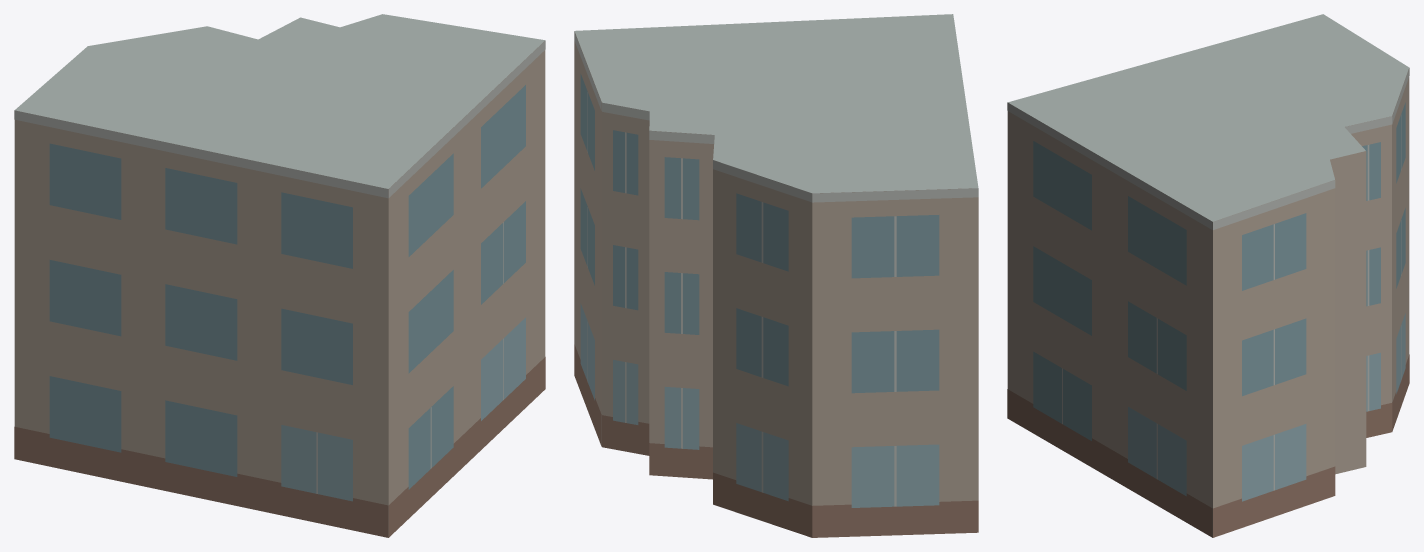
Rendered from survey-upis-32490858.glb.
3 renders of one model, left to right at view 1: azimuth 30°, elevation 25°; view 2: azimuth 150°, elevation 25°; view 3: azimuth 270°, elevation 25°, orthographic. The views are drawn at different scales.
Parts seen in each view (by area): view 1: survey-upis-32490858.tmp; view 2: survey-upis-32490858.tmp; view 3: survey-upis-32490858.tmp.
Part boxes in pixels (x1,y1,x2,y2): survey-upis-32490858.tmp: [14, 14, 545, 537]; survey-upis-32490858.tmp: [574, 14, 978, 537]; survey-upis-32490858.tmp: [1007, 14, 1409, 537].
Size of the model in its own units: 12.91 by 9.15 by 10.55.
